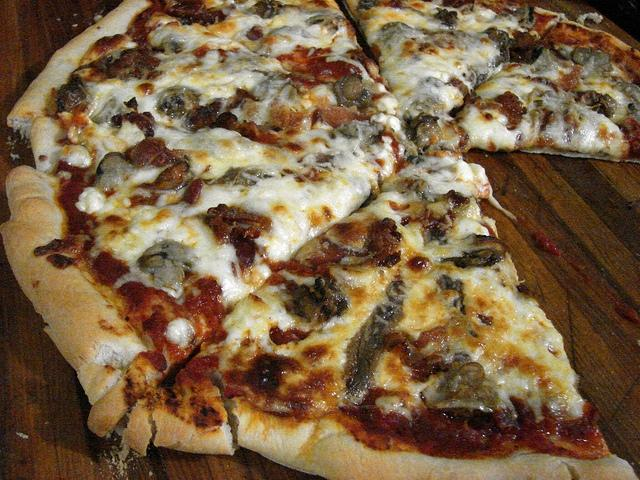mushroom: (343, 279, 406, 405), (292, 274, 348, 324), (138, 239, 194, 286), (94, 48, 160, 82), (94, 152, 156, 188), (401, 112, 442, 155), (333, 72, 372, 110), (250, 76, 298, 103), (442, 248, 505, 268), (157, 89, 199, 119), (572, 90, 616, 118), (58, 73, 88, 112), (574, 48, 610, 80), (306, 13, 344, 33), (470, 235, 508, 253), (611, 82, 639, 104), (548, 41, 575, 60), (268, 26, 306, 39), (251, 1, 280, 18), (434, 8, 458, 26), (379, 20, 414, 32), (409, 102, 431, 118), (339, 122, 359, 139)
